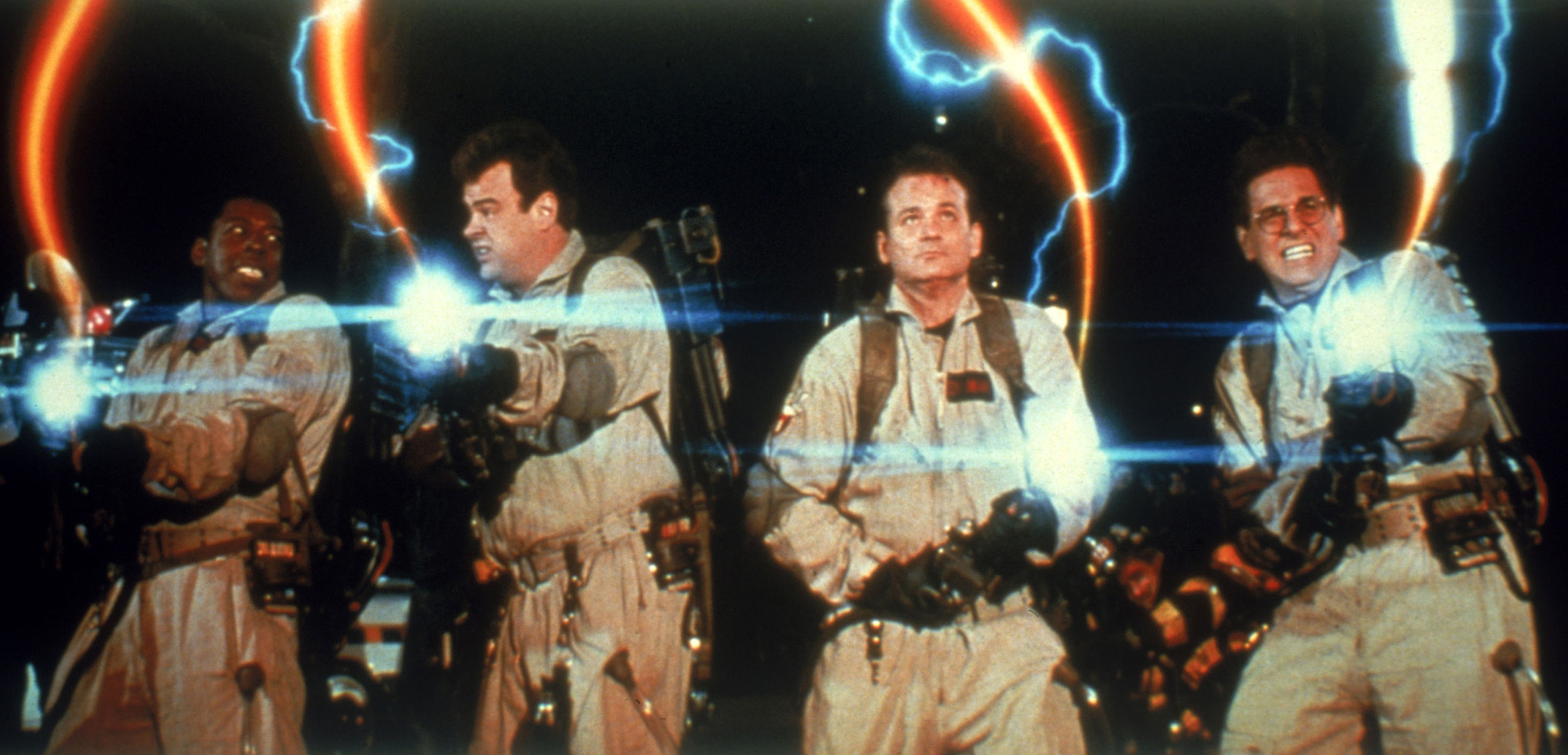25: (1112, 552, 1162, 616)
27: (450, 142, 545, 298), (196, 185, 295, 312)
42: (874, 155, 982, 297)
52: (1236, 148, 1347, 301)
Belt: (1287, 470, 1511, 572), (485, 489, 682, 600), (88, 520, 306, 583)
Glasses: (1245, 190, 1340, 235)
Gloves: (848, 532, 965, 632), (1310, 364, 1419, 451), (66, 405, 150, 513), (969, 487, 1060, 578), (452, 339, 526, 408)
Jump suit: (739, 267, 1107, 755), (1200, 243, 1540, 755), (28, 275, 358, 755), (461, 229, 707, 755)
Male: (1236, 148, 1347, 301), (874, 155, 982, 297), (450, 142, 545, 298), (196, 185, 295, 312), (1112, 552, 1162, 616)
